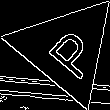P_NW: (34, 18, 98, 80)
